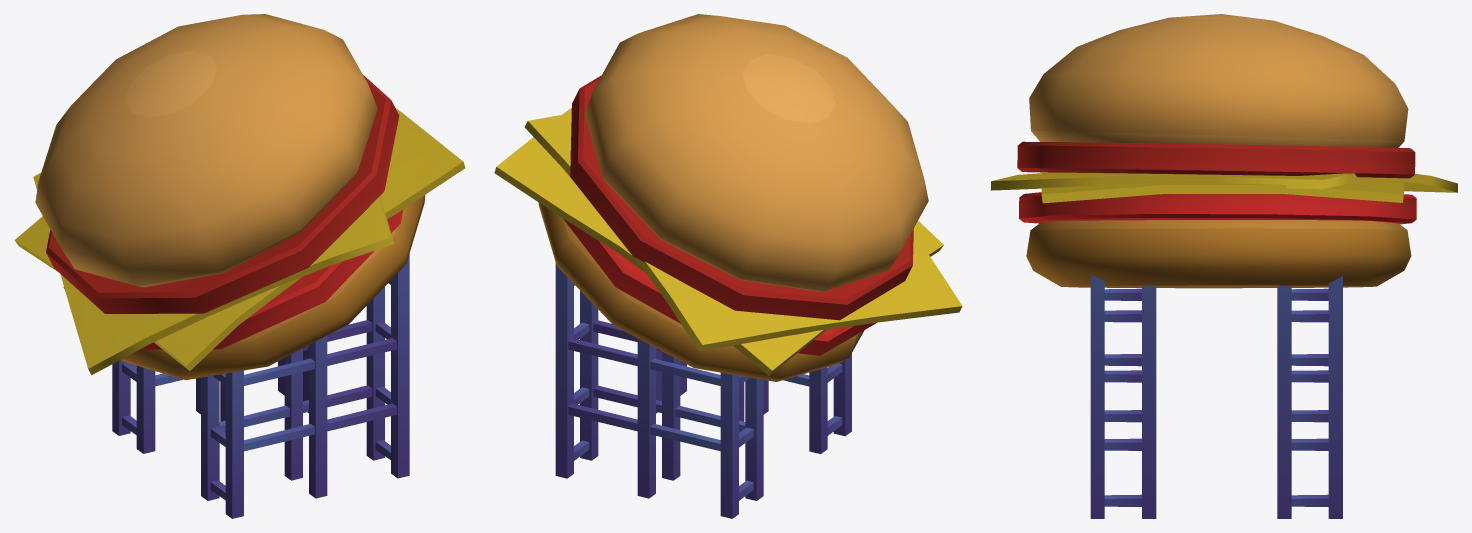
The model's file is BurgerSign_2_A.fbx.
3 renders of one model, left to right at view 1: azimuth 30°, elevation 25°; view 2: azimuth 150°, elevation 25°; view 3: azimuth 270°, elevation 25°, orthographic. The views are drawn at different scales.
Visible parts, largest first — view 1: BurgerSign_2_A; view 2: BurgerSign_2_A; view 3: BurgerSign_2_A.
Part boxes in pixels (x1,y1,x2,y2): BurgerSign_2_A: [14, 14, 465, 518]; BurgerSign_2_A: [494, 14, 962, 518]; BurgerSign_2_A: [991, 14, 1457, 518].
Bounding box in the file's own units: 358 × 402 × 388.
